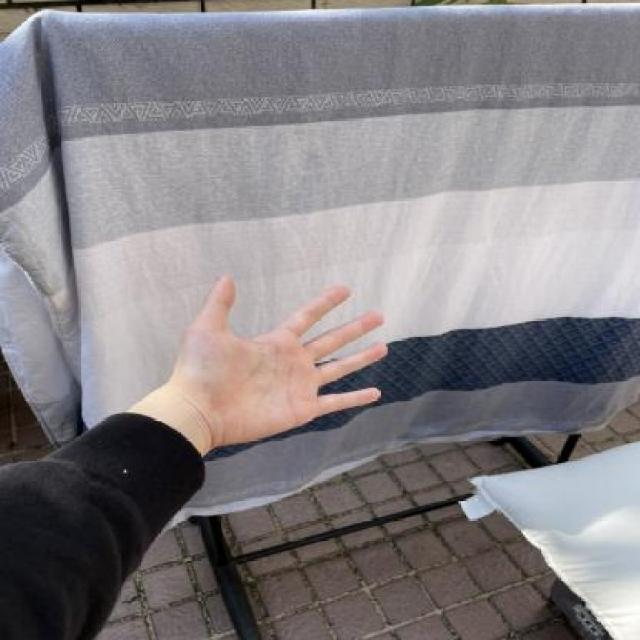hand: (129, 272, 388, 452)
